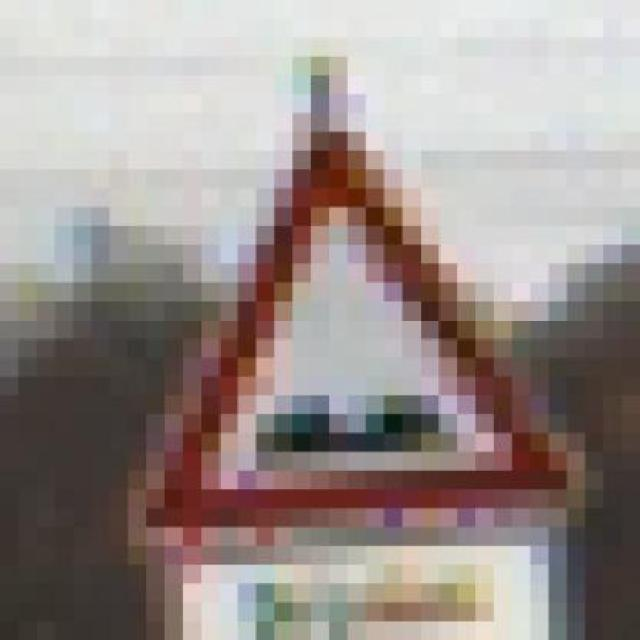Uneven Road: (110, 112, 585, 546)
